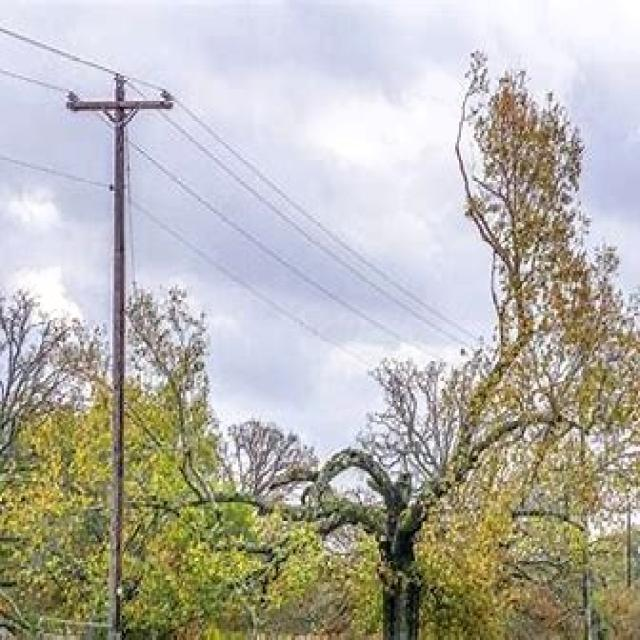utility poles: (36, 29, 228, 638)
